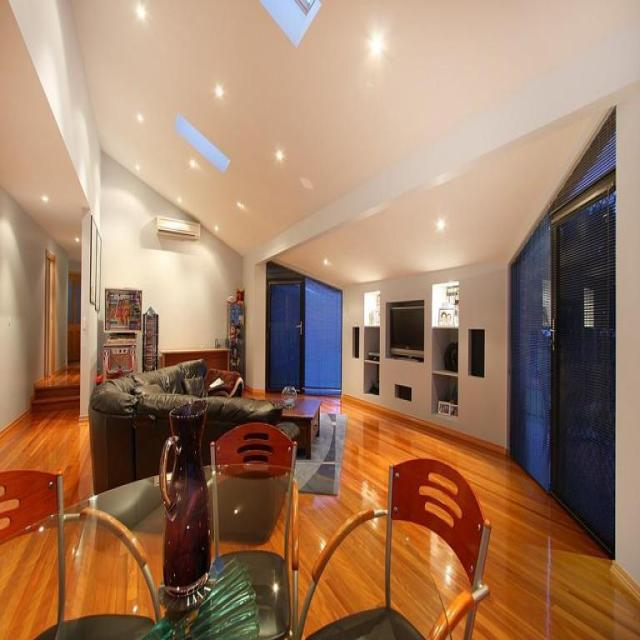chair: (298, 456, 492, 639)
curtains: (507, 103, 616, 558)
door: (266, 278, 302, 392)
floor-decor: (1, 388, 637, 638)
pots: (157, 399, 211, 599)
rugs: (292, 411, 348, 495)
sofa: (88, 357, 299, 495)
table: (267, 392, 321, 458)
television: (387, 300, 424, 360)
